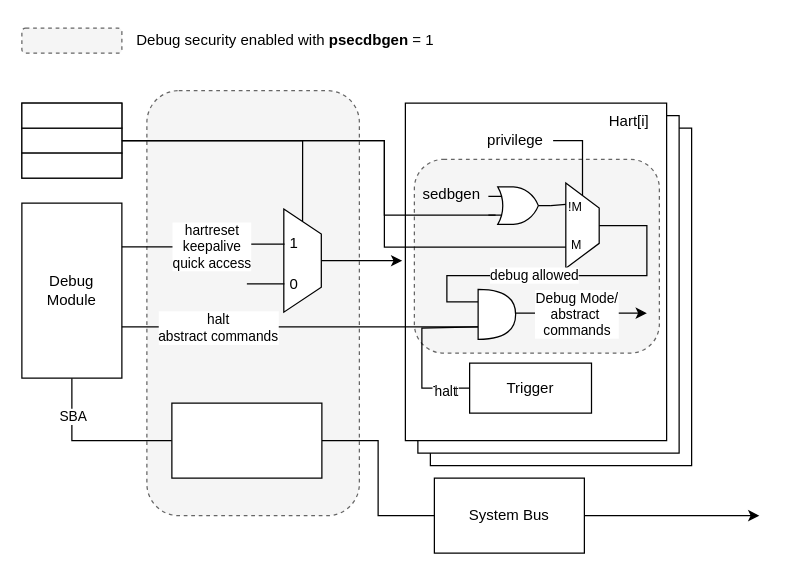
Image size: 791x575. Some labels were removed from this diagram. Each missing label, with the box of its shape:
mdbgen[i]: (21, 127, 122, 153)
Memory Protection: (171, 402, 322, 478)
